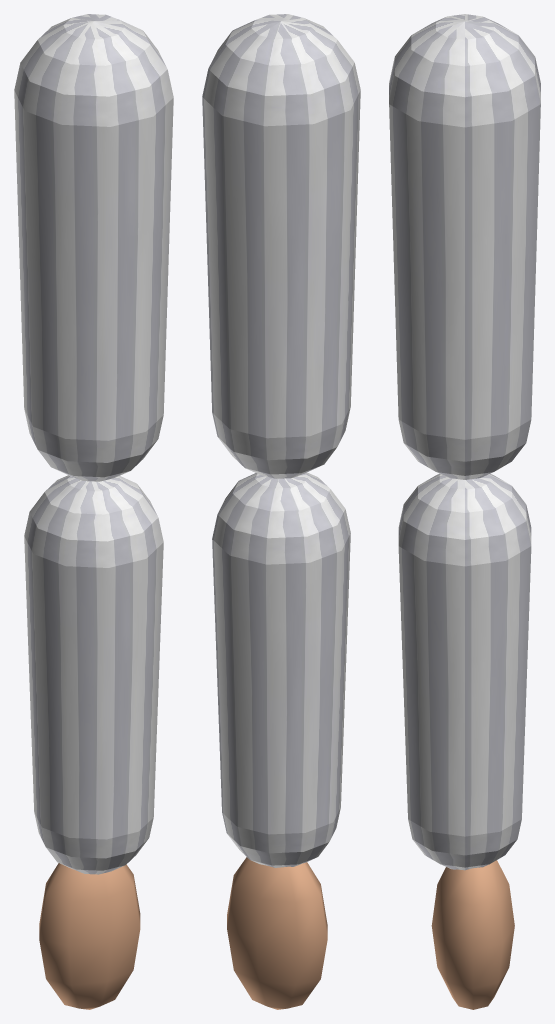
The model's file is char_resident_arm.obj.
3 renders of one model, left to right at view 1: azimuth 30°, elevation 25°; view 2: azimuth 150°, elevation 25°; view 3: azimuth 270°, elevation 25°, orthographic.
Parts seen in each view (by area): view 1: char_resident_arm; view 2: char_resident_arm; view 3: char_resident_arm.
Boxes of the visible parts, x1,y1,x2,y2 form: char_resident_arm: (14, 14, 173, 1009); char_resident_arm: (202, 14, 360, 1009); char_resident_arm: (389, 14, 540, 1009).
Bounding box in the file's own units: 0.096 × 0.655 × 0.0913.
Materials: 2 (1 with a texture image).
